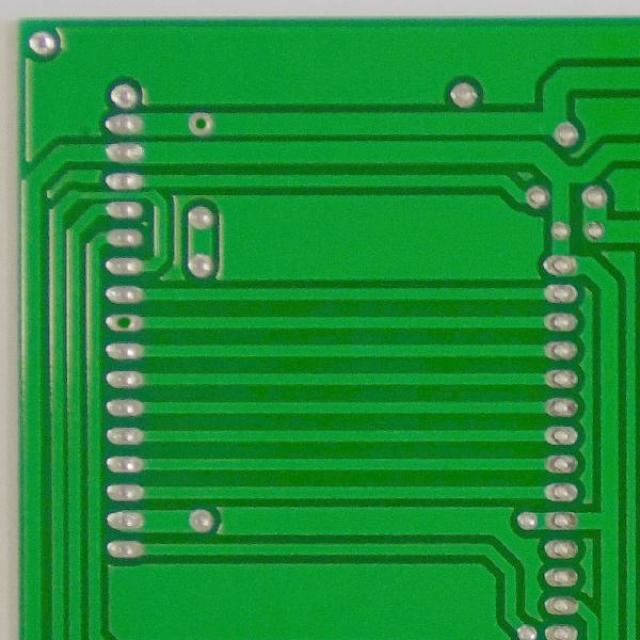Missing_Hole: (185, 109, 218, 140), (104, 309, 145, 333)
